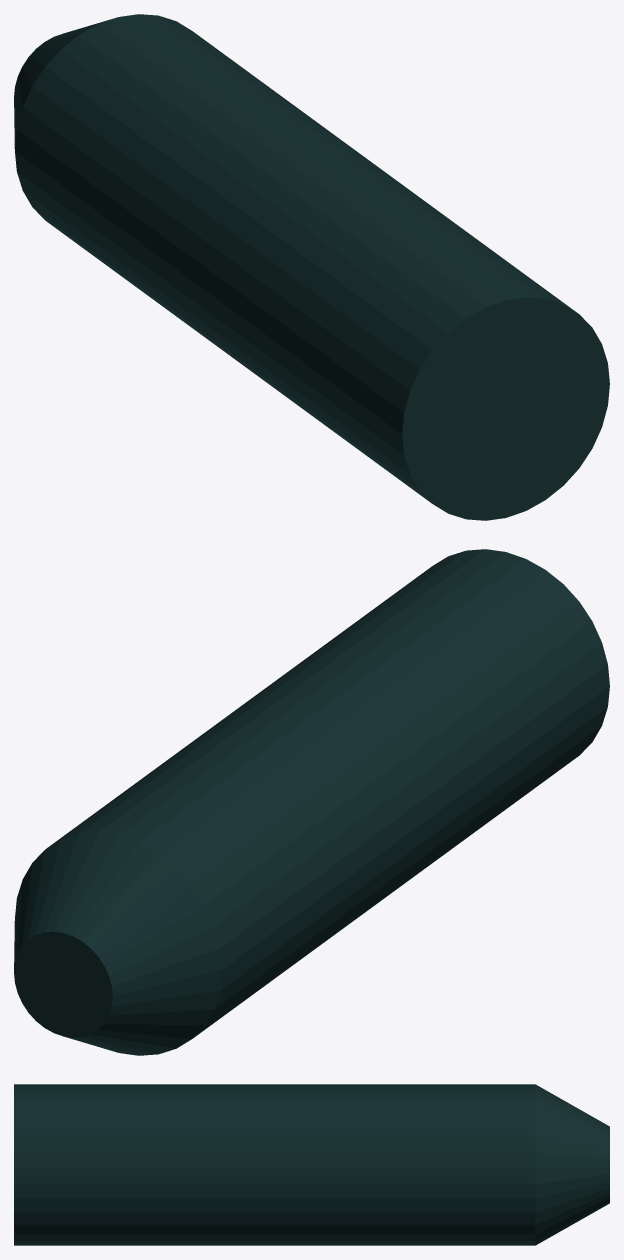
The model's file is bullet.glb.
3 views of the same model, one above another, from view 1: azimuth 30°, elevation 25°; view 2: azimuth 150°, elevation 25°; view 3: azimuth 270°, elevation 25° (orthographic). The views are drawn at different scales.
Parts seen in each view (by area): view 1: Cylinder; view 2: Cylinder; view 3: Cylinder.
Part boxes in pixels (<box>): Cylinder: <box>14,14,609,520</box>; Cylinder: <box>14,549,609,1055</box>; Cylinder: <box>14,1084,609,1245</box>.
Bounding box in the file's own units: 0.3712 × 0.3712 × 1.37.
